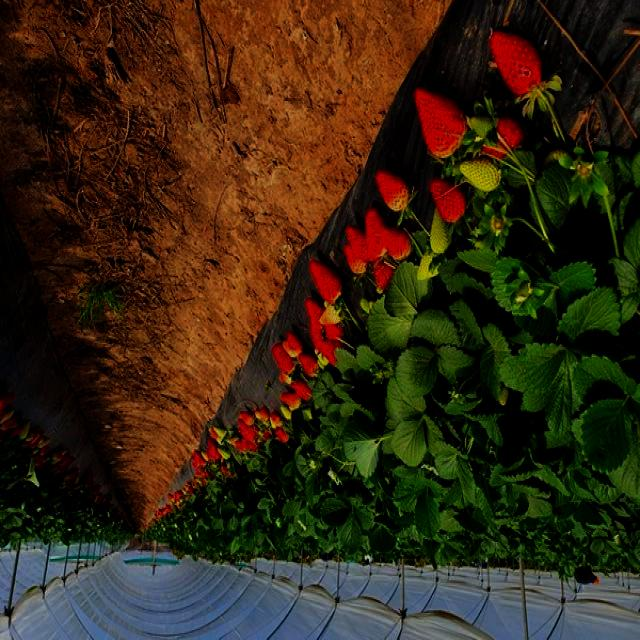ripe: (411, 75, 468, 168), (486, 26, 556, 97), (485, 109, 528, 165), (427, 177, 470, 230), (304, 254, 347, 306), (364, 202, 401, 260), (374, 165, 416, 214), (340, 220, 378, 268), (383, 227, 417, 264), (314, 334, 346, 369), (284, 332, 312, 368), (303, 294, 328, 334), (342, 242, 366, 278), (372, 262, 398, 294), (271, 342, 294, 374), (0, 383, 19, 413), (292, 379, 314, 403), (280, 390, 302, 410), (234, 438, 257, 456), (274, 426, 290, 446), (238, 410, 255, 427), (58, 459, 76, 473), (194, 448, 207, 466), (207, 437, 220, 454), (260, 407, 270, 422)
unripe: (456, 148, 509, 203), (428, 210, 452, 256), (414, 246, 442, 284), (17, 420, 32, 444), (280, 404, 292, 422), (217, 446, 229, 462), (212, 426, 225, 438)
